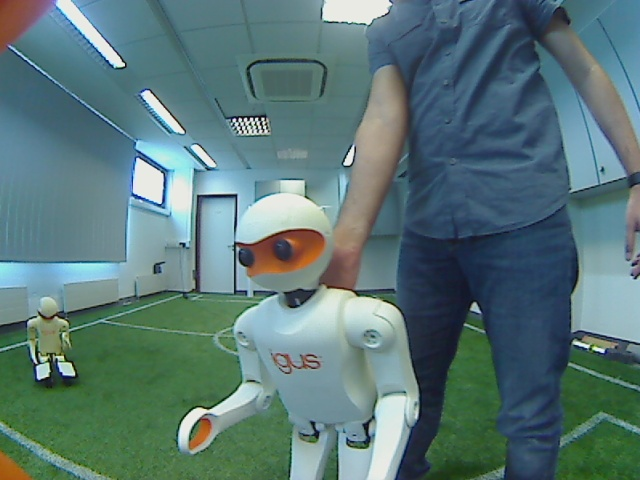robot: (192, 189, 415, 480), (19, 288, 87, 390)
